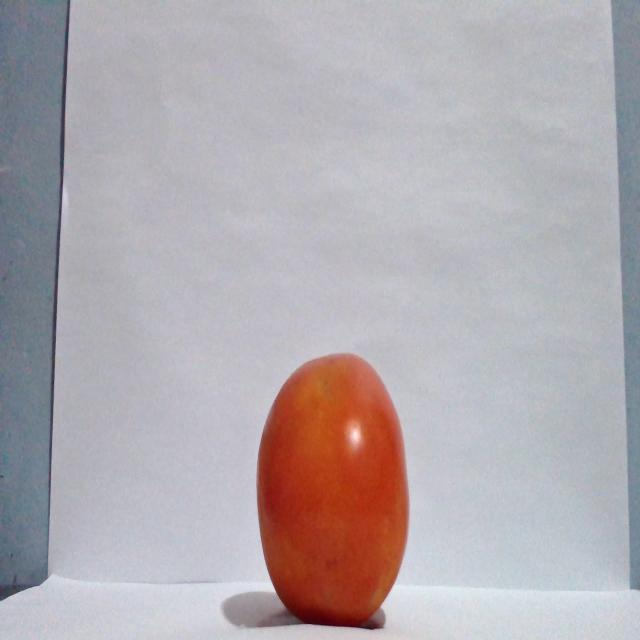Red: (254, 351, 410, 626)
